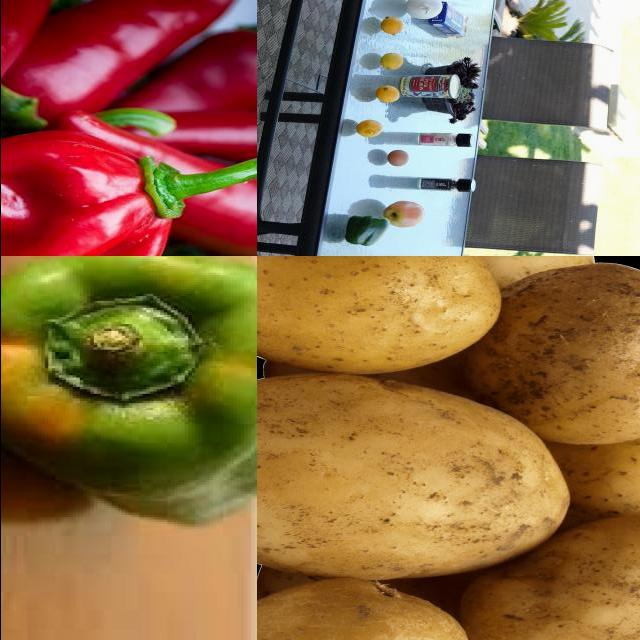bell_pepper: (1, 257, 257, 532), (344, 212, 391, 248), (417, 174, 477, 196), (425, 61, 478, 83)
egg: (382, 151, 409, 171)
onion: (403, 1, 443, 20)
potato: (257, 381, 568, 581), (488, 261, 640, 445), (257, 257, 493, 369), (464, 501, 640, 640), (257, 564, 487, 640), (321, 257, 598, 312), (554, 416, 640, 548)
